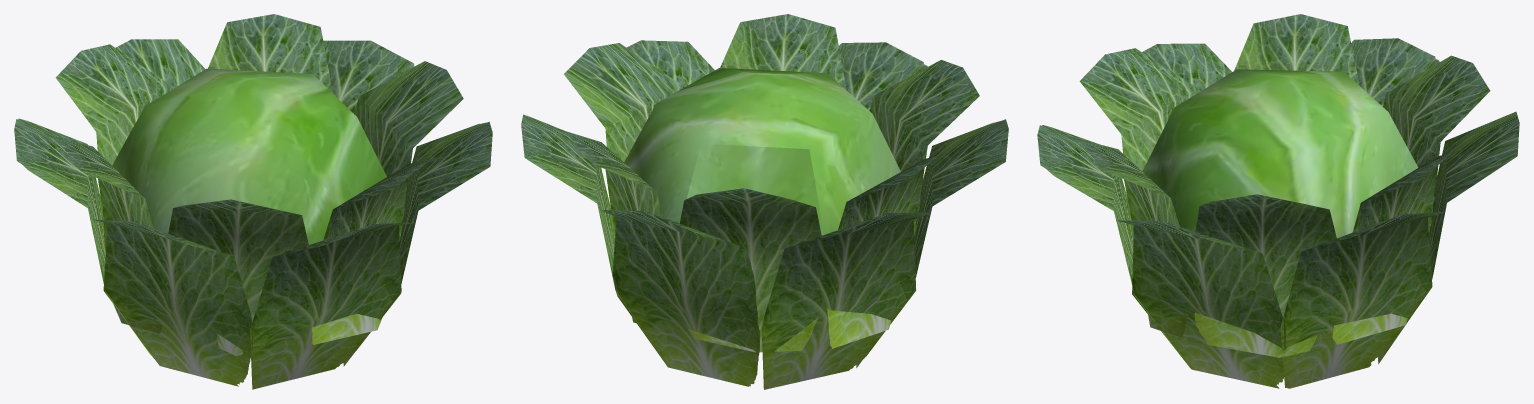
Rendered from FRM0110015.fbx.
The picture shows the model from 3 angles, left to right: view 1: azimuth 30°, elevation 25°; view 2: azimuth 150°, elevation 25°; view 3: azimuth 270°, elevation 25°; orthographic projection.
Visible parts, largest first — view 1: smFRM0110015; view 2: smFRM0110015; view 3: smFRM0110015.
Part boxes in pixels (bbox=[...]): smFRM0110015: bbox=[14, 14, 492, 389]; smFRM0110015: bbox=[521, 14, 1008, 389]; smFRM0110015: bbox=[1037, 14, 1519, 388].
Size of the model in its own units: 36.16 by 22.9 by 37.32.
Materials: 1 (1 with a texture image).
